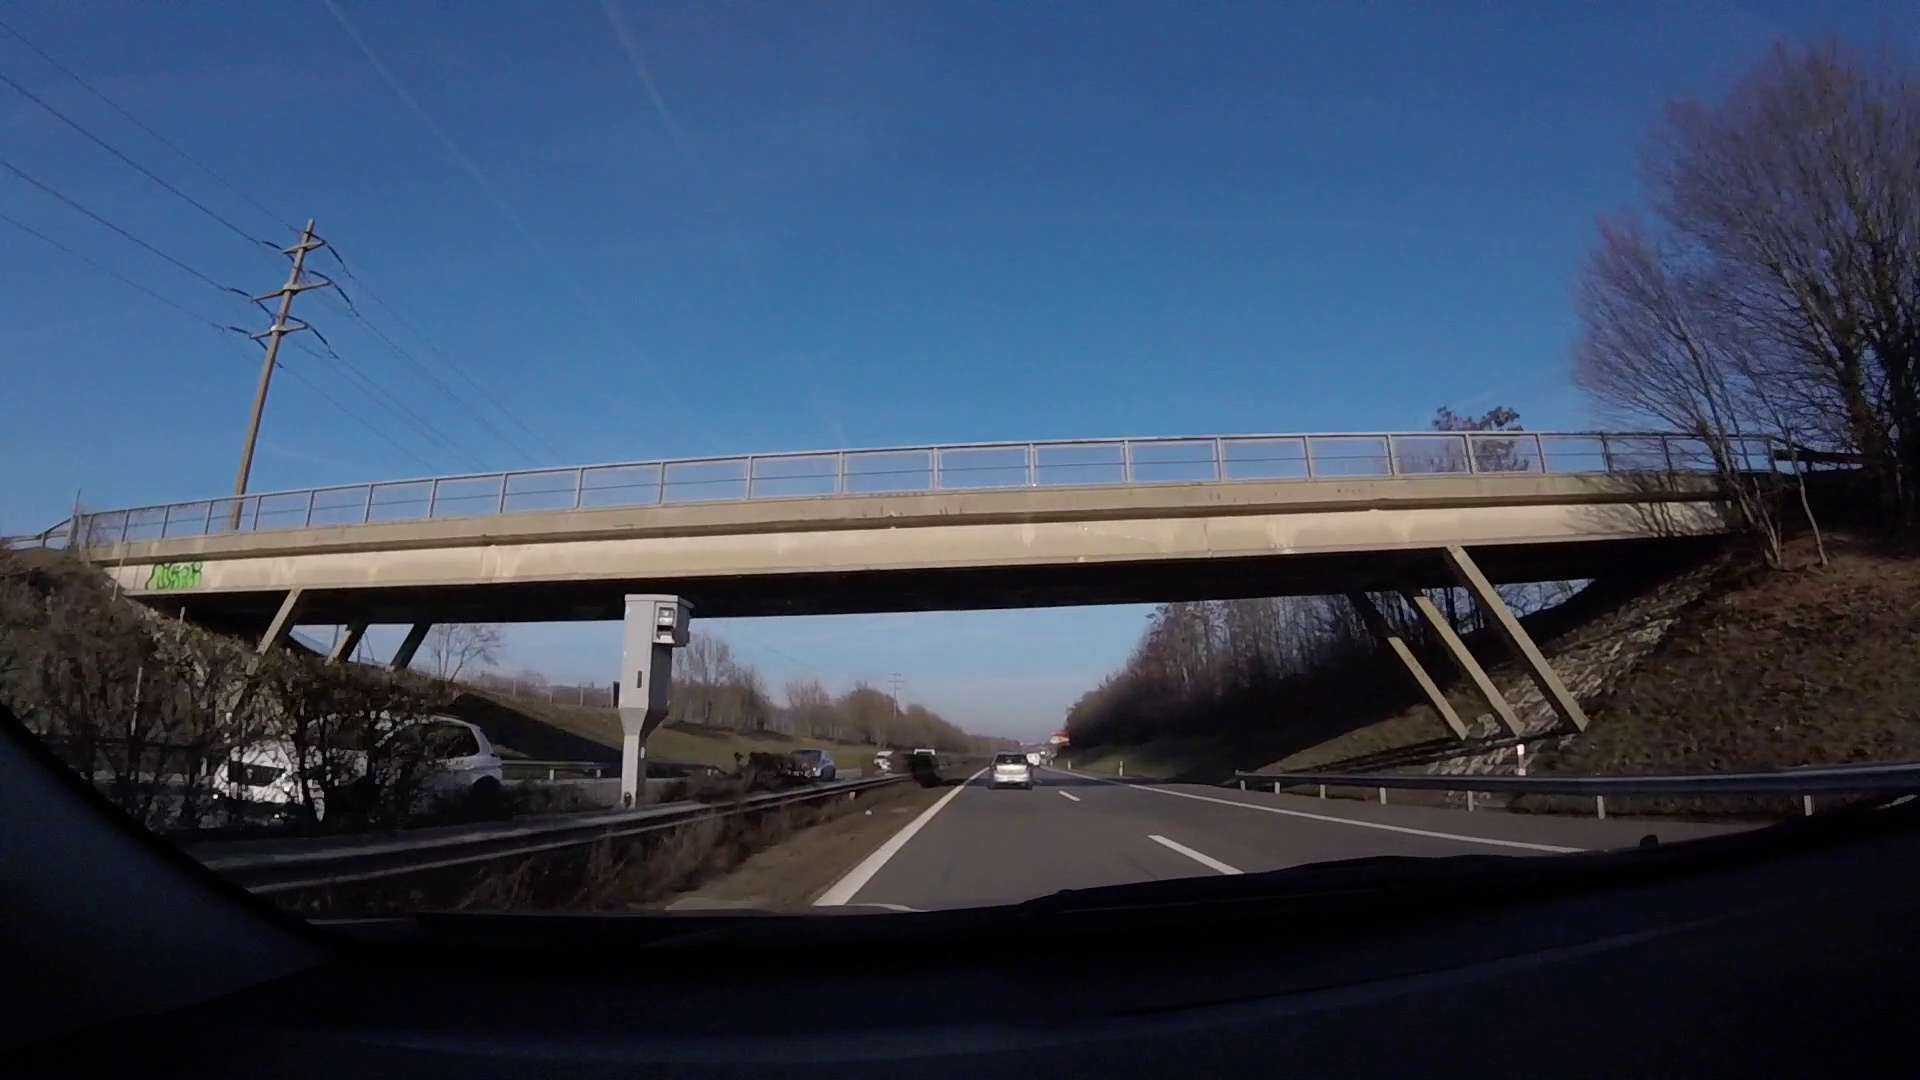radar: (617, 592, 694, 815)
